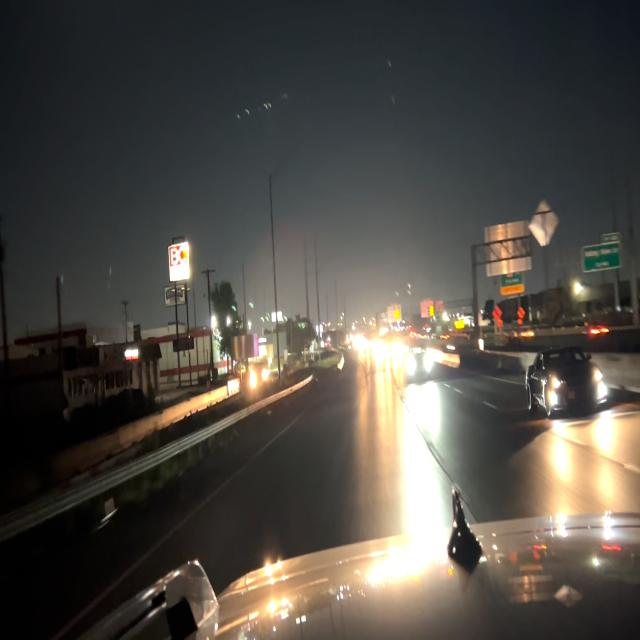back-of-sign: (481, 215, 534, 278), (530, 197, 559, 248)
